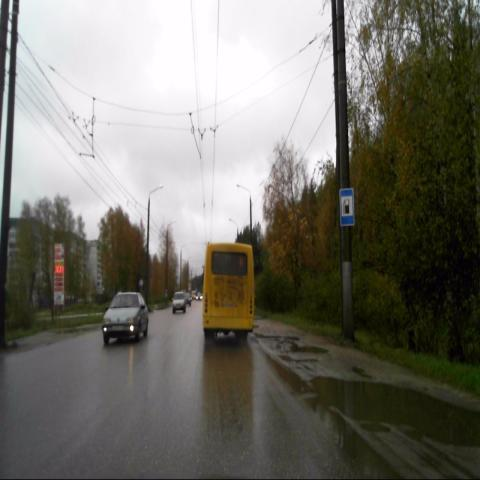7_3: (338, 187, 356, 228)
